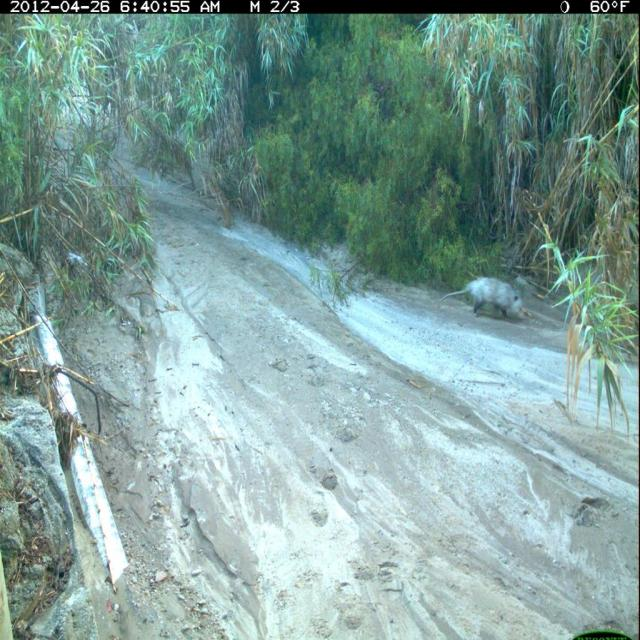opossum: (439, 273, 531, 325)
